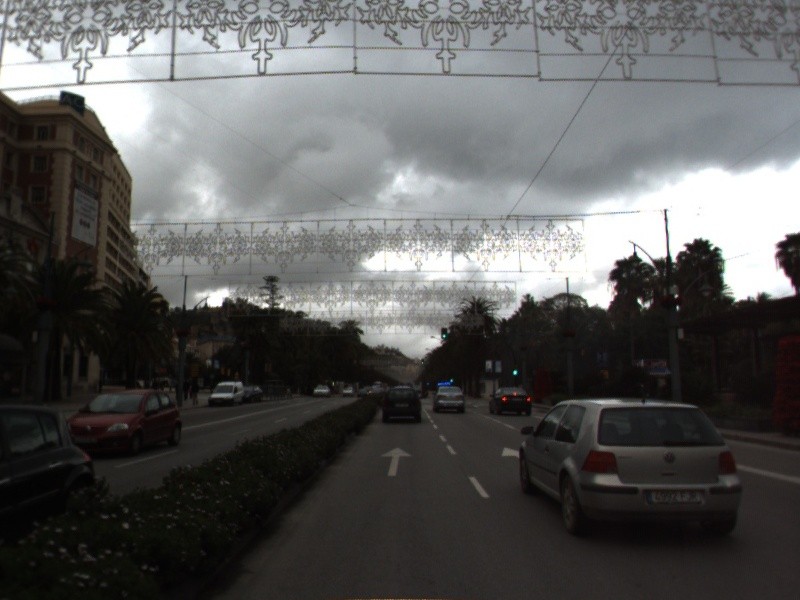STRAIGHT: (379, 446, 414, 478)
